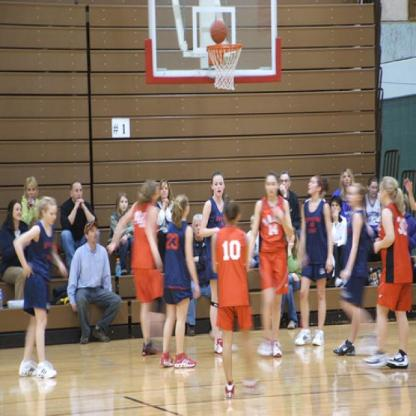basketball: (210, 18, 227, 44)
rim: (206, 45, 243, 51)
